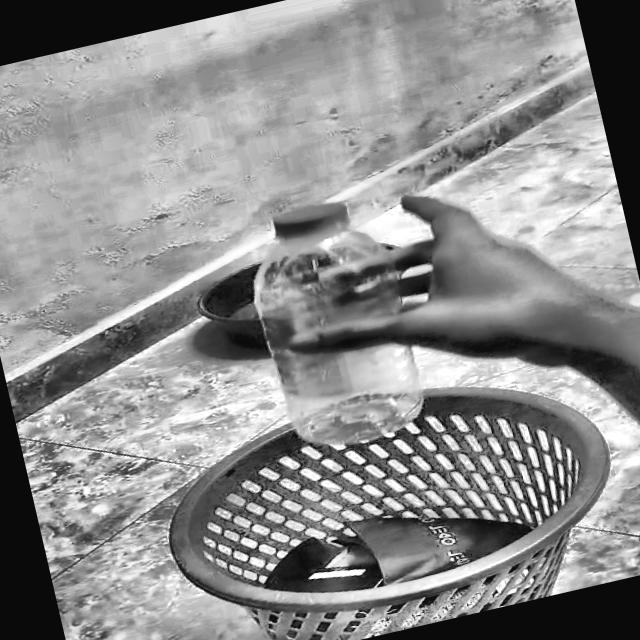Dustbin: (168, 353, 628, 640)
Empty: (176, 371, 601, 630)
Plastic-Bottle: (206, 184, 451, 483)
